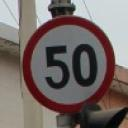speed_limit_50: (23, 16, 115, 113)
